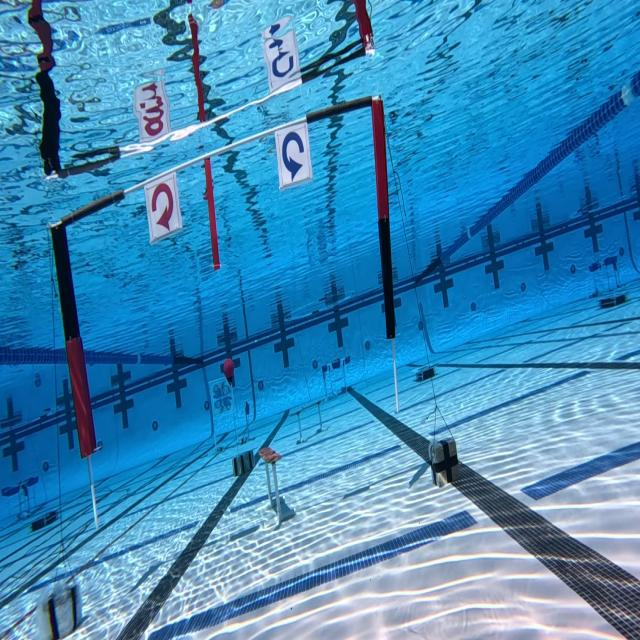blue_side: (270, 121, 320, 202)
red_side: (138, 166, 185, 249)
